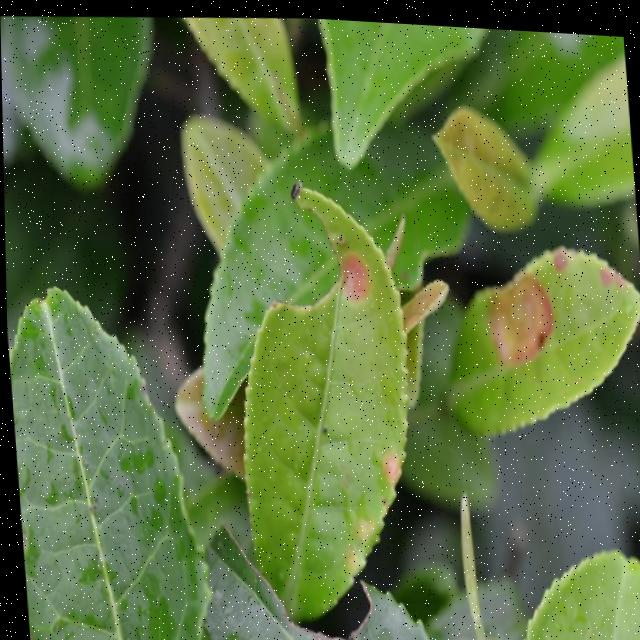Tea cake: (478, 267, 560, 358), (336, 242, 379, 300)
